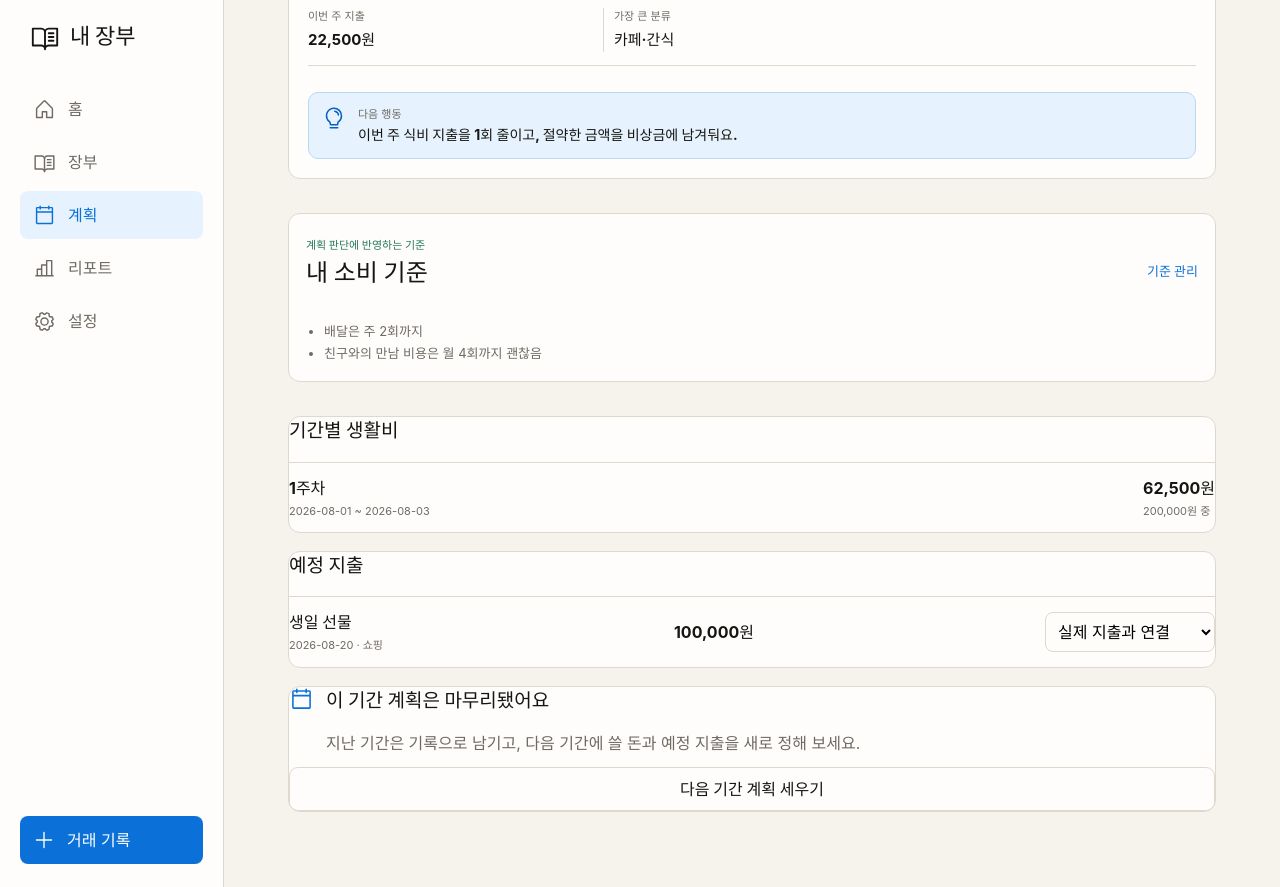
Test case: spending plan flow › returns to the saved plan without discarding a next draft
(page scrolled)
Click the button "다음 기간 계획 세우기". click: click(752, 789)
box: [289,767,1215,811]
(page scrolled)
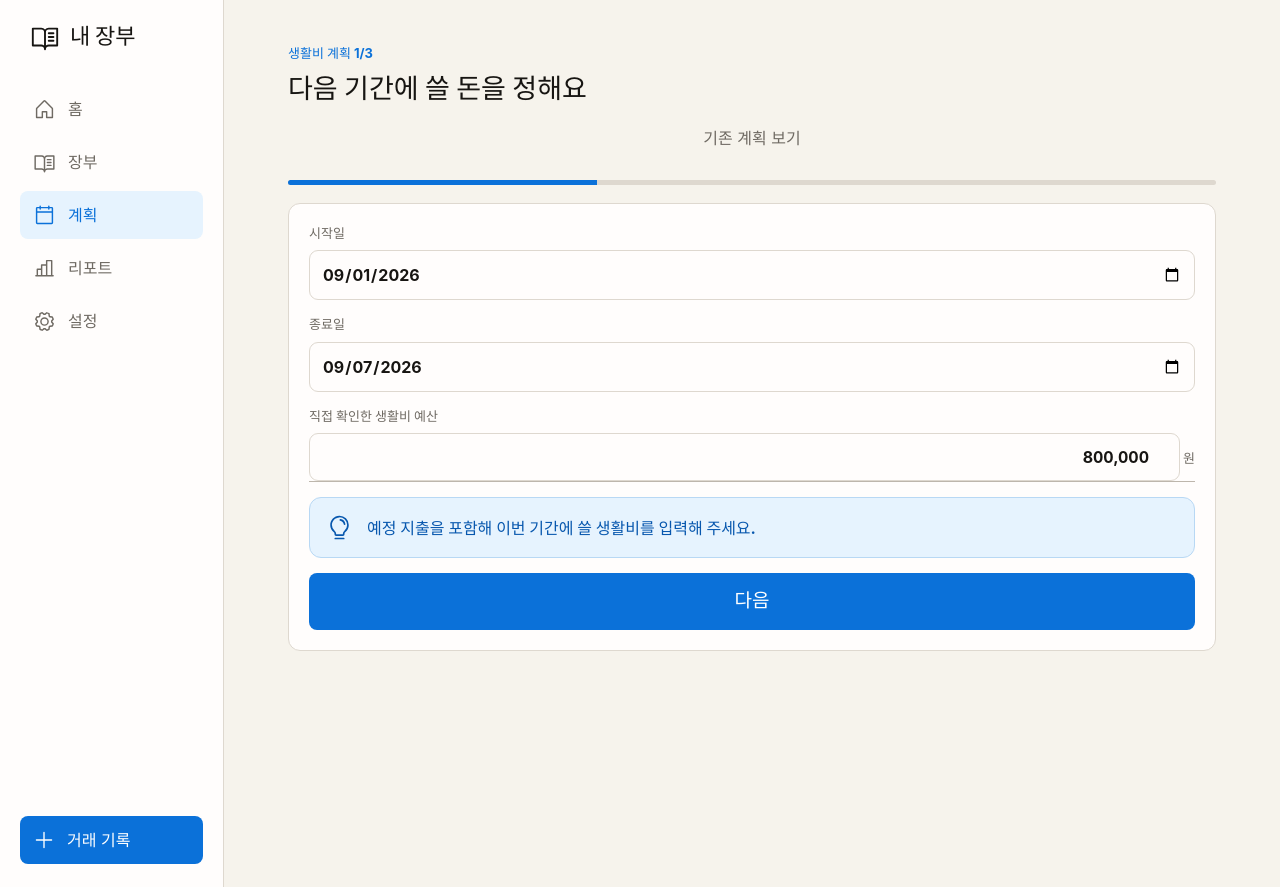
Replace the text in the field named "확정 생활비 예산" with "700000". click: (744, 457)
box: [309,433,1180,481]
Click the button "다음". click: click(752, 601)
box: [309,573,1195,630]
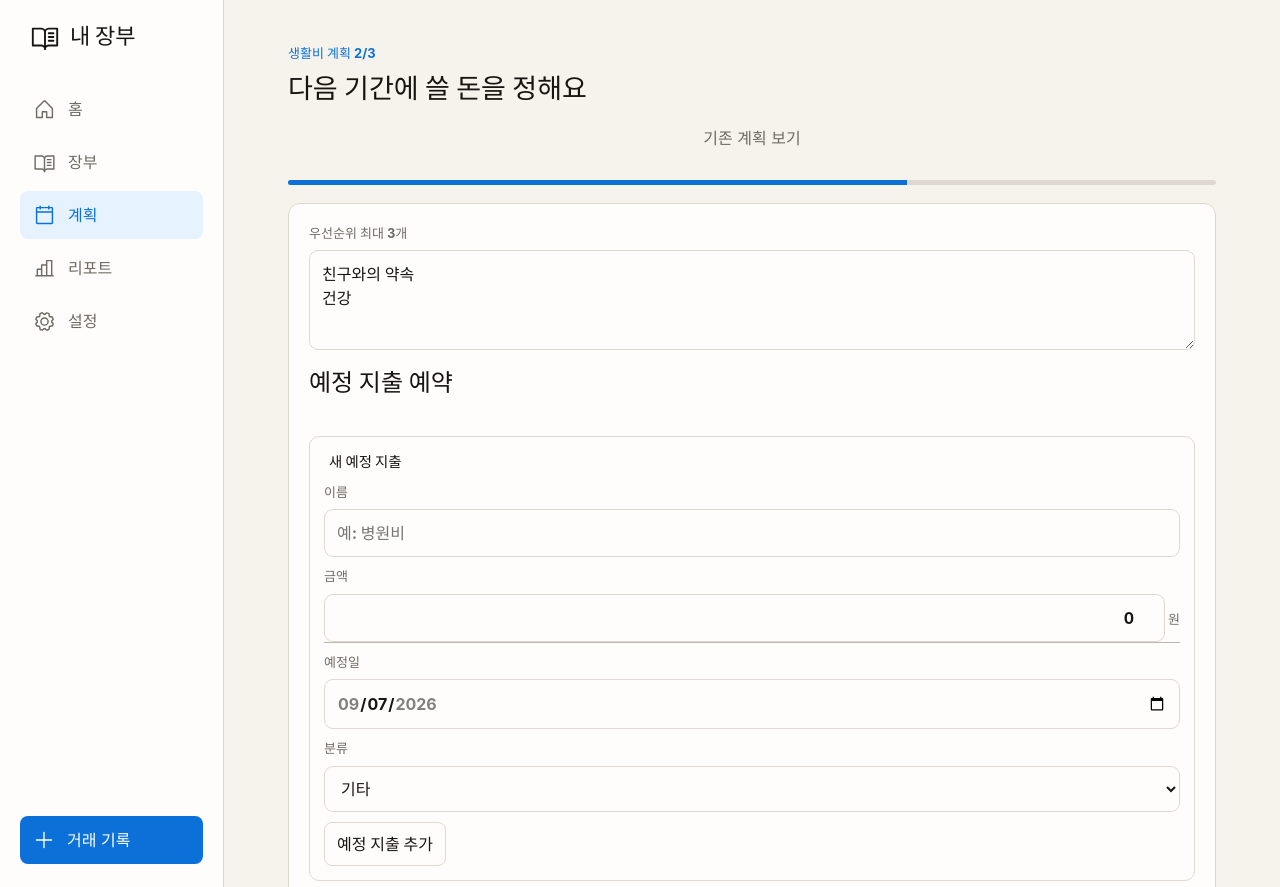
Type "주말 약속 유지하기" into the text box labelled "우선순위 최대 3개". click: (752, 300)
box: [309,250,1195,350]
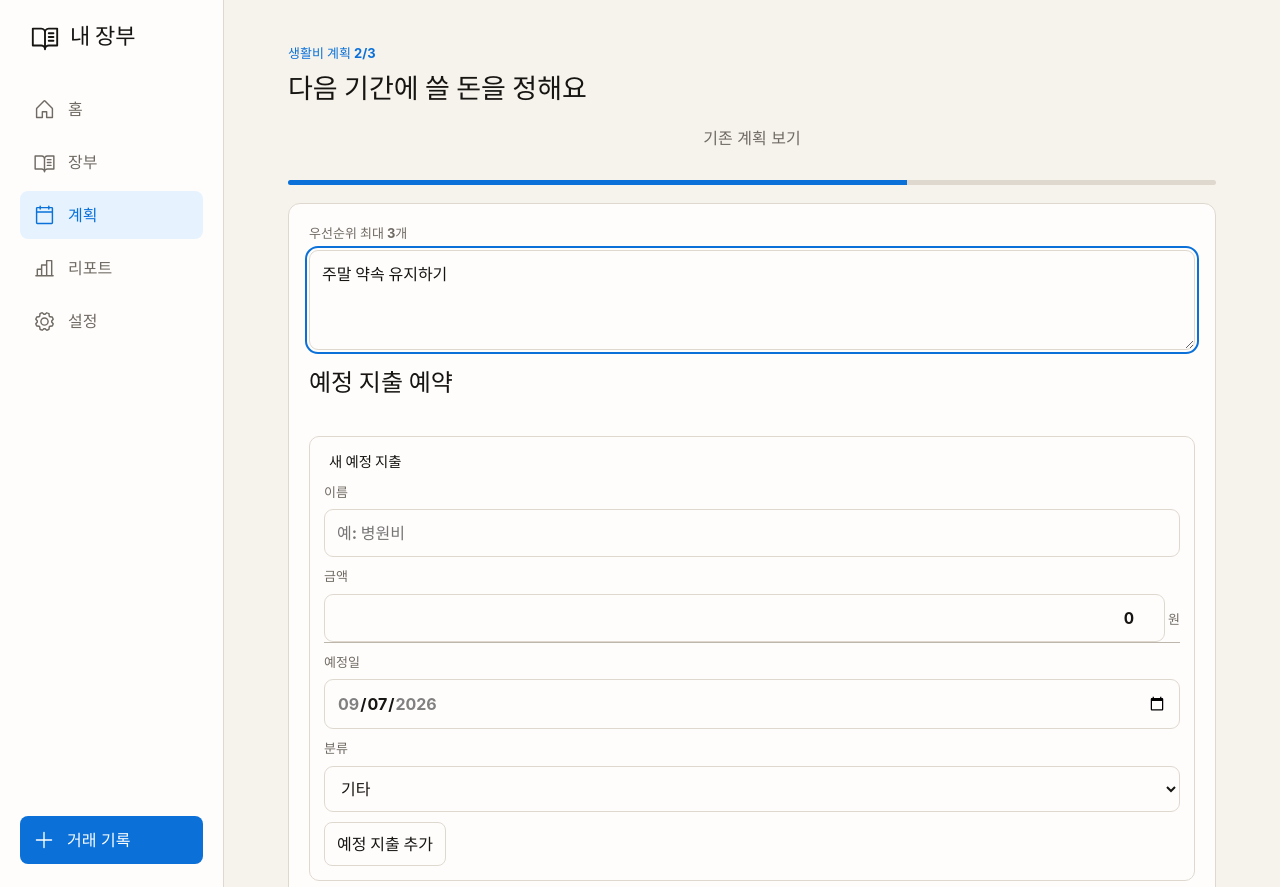
Click the button "기존 계획 보기". click: click(752, 138)
box: [697,114,807,162]
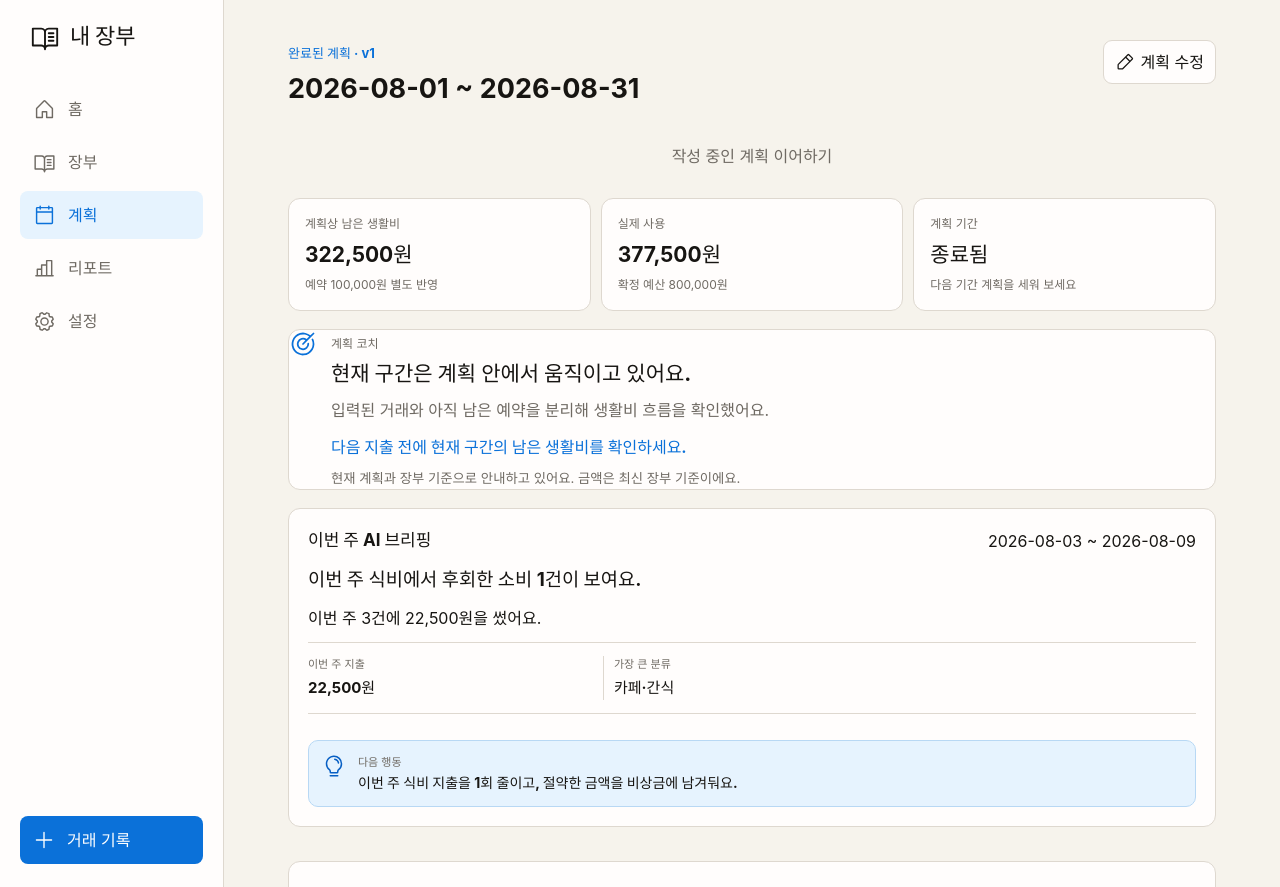
expect the text "완료된 계획 · v1" is shown: met, box [288,45,375,61]
Click the button "작성 중인 계획 이어하기". click: click(752, 156)
box: [666,132,838,180]
(page scrolled)
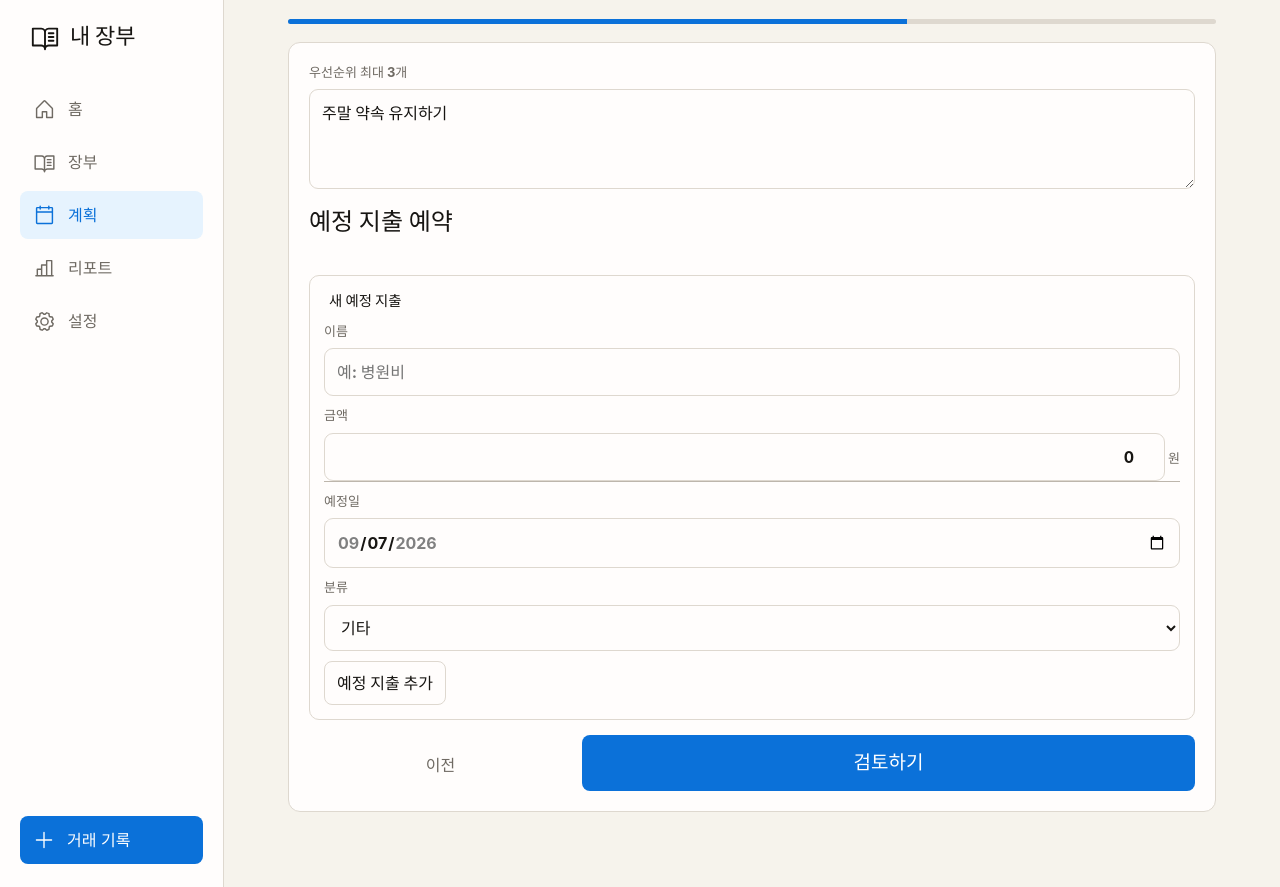
expect the text box labelled "우선순위 최대 3개" holds "주말 약속 유지하기": met, box [309,89,1195,189]
Click the button "이전". click: click(440, 765)
box: [420,738,461,791]
(page scrolled)
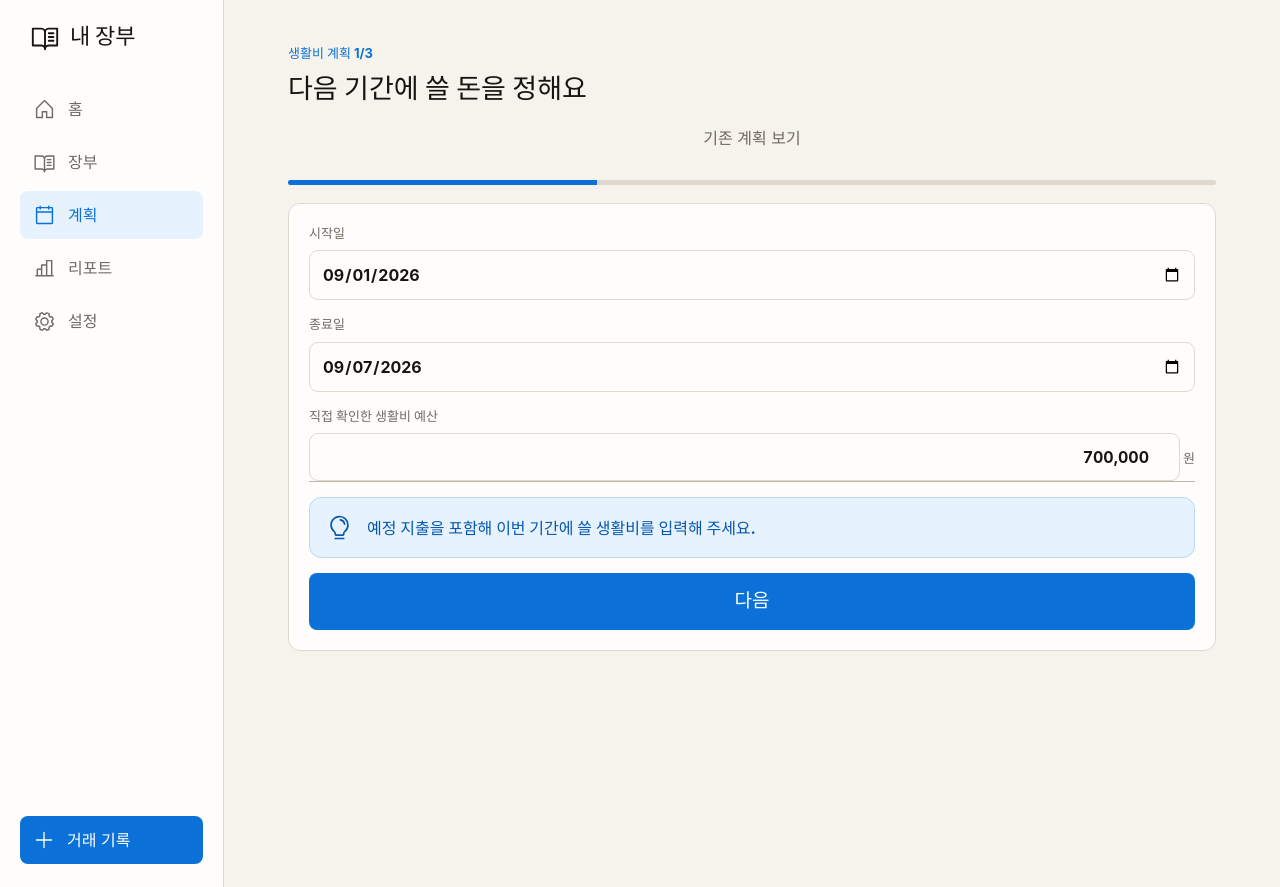
expect the field named "확정 생활비 예산" holds "700,000": met, box [309,433,1180,481]
